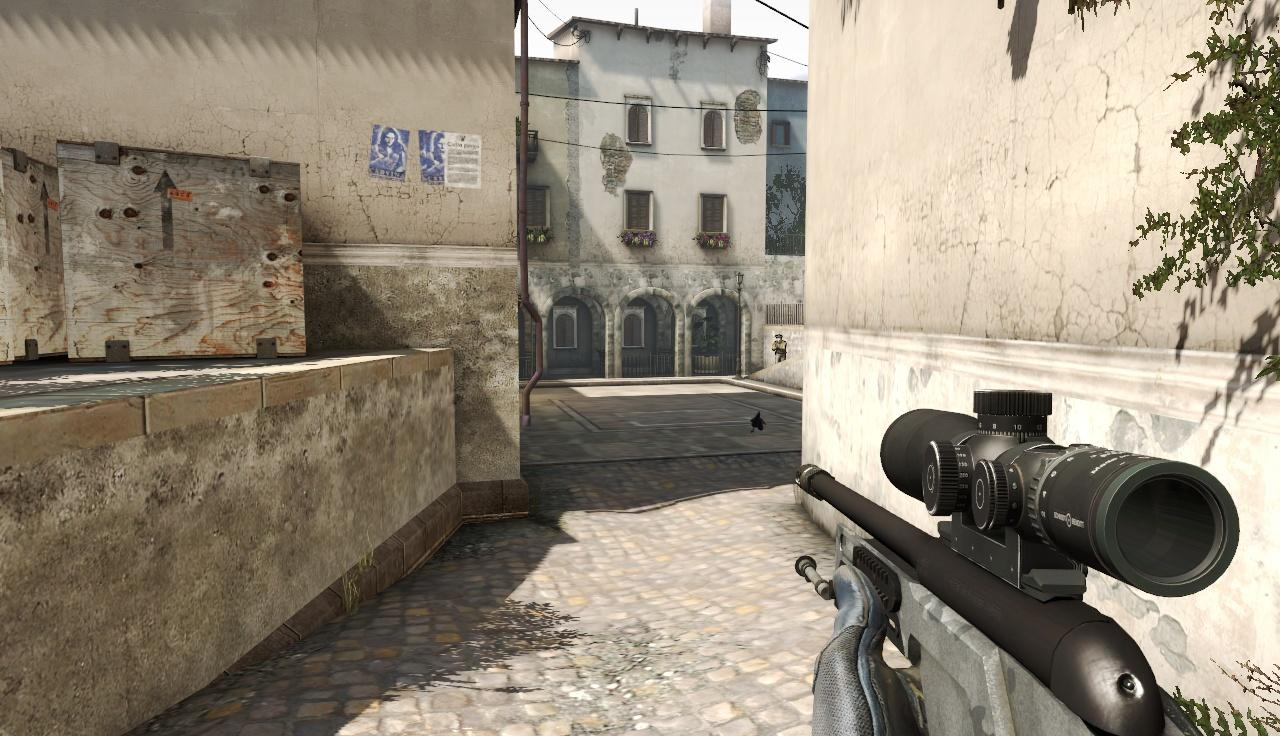sniper: (793, 379, 1280, 736)
tt: (772, 334, 786, 362)
tthead: (776, 335, 783, 342)
